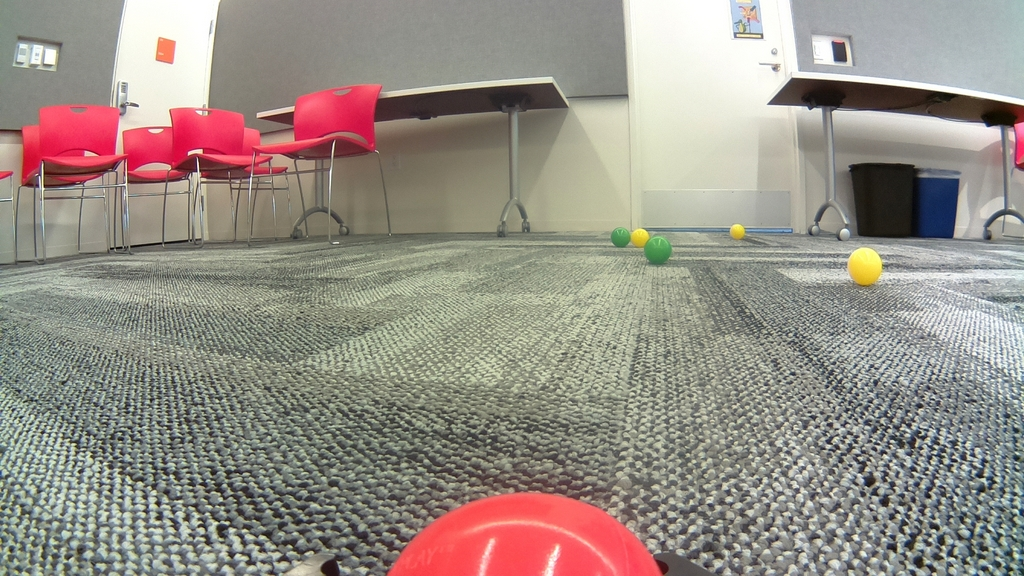ball: (612, 226, 629, 247)
